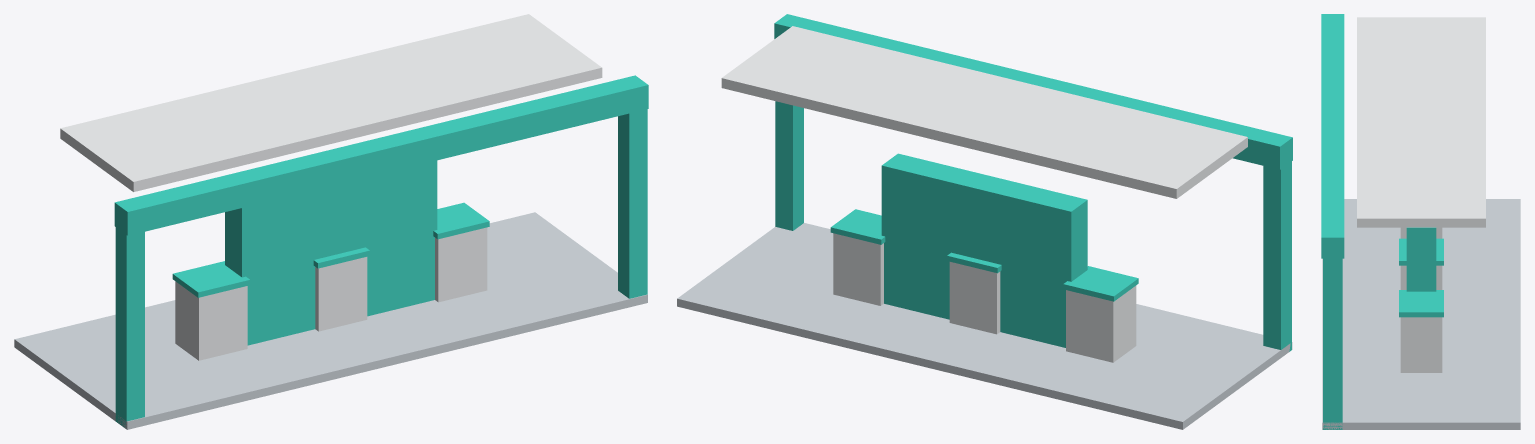
3 renders of one model, left to right at view 1: azimuth 30°, elevation 25°; view 2: azimuth 150°, elevation 25°; view 3: azimuth 270°, elevation 25°, orthographic. The views are drawn at different scales.
Visible parts, largest first — view 1: Exhibition Booth Concept; view 2: Exhibition Booth Concept; view 3: Exhibition Booth Concept.
Part boxes in pixels (x1,y1,x2,y2): Exhibition Booth Concept: (14, 14, 648, 429); Exhibition Booth Concept: (677, 14, 1292, 429); Exhibition Booth Concept: (1321, 14, 1520, 429).
Size of the model in its own units: 8 by 3.34 by 3.01.
